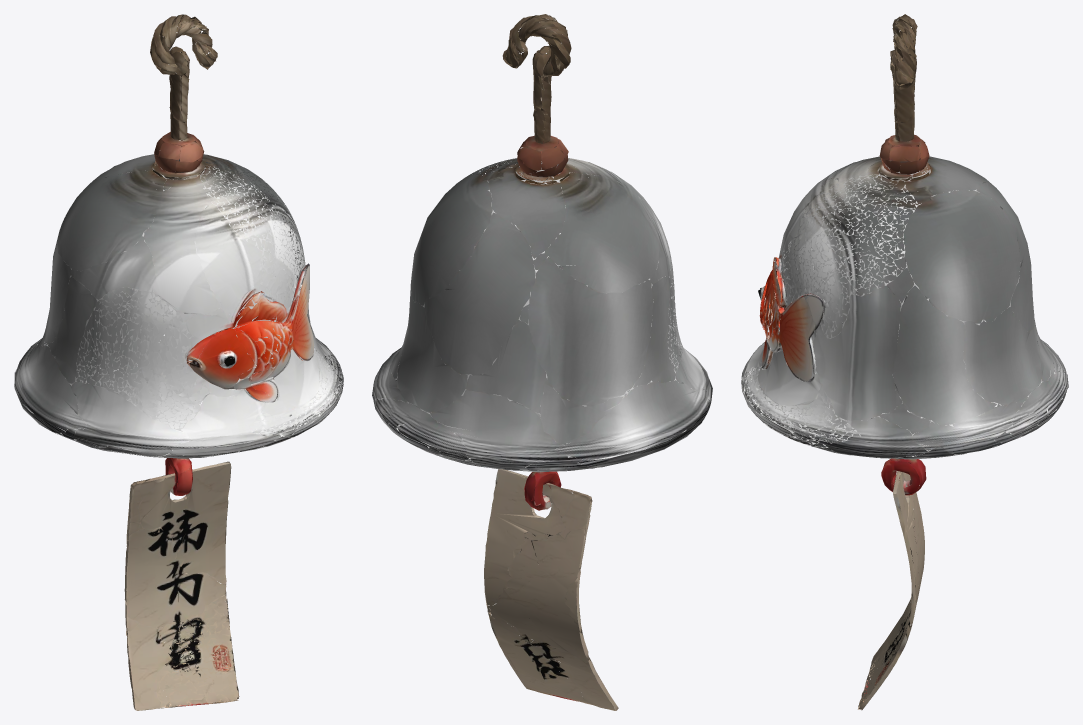
Rendered from chime.glb.
3 renders of one model, left to right at view 1: azimuth 30°, elevation 25°; view 2: azimuth 150°, elevation 25°; view 3: azimuth 270°, elevation 25°, orthographic. The views are drawn at different scales.
Visible parts, largest first — view 1: node_0; view 2: node_0; view 3: node_0.
Boxes of the visible parts, box(x1,y1,x2,y2) form: node_0: box(14, 14, 343, 710); node_0: box(372, 14, 712, 710); node_0: box(741, 14, 1068, 710).
Size of the model in its own units: 0.5247 by 1.19 by 0.5212.
1 material, 1 textured.
